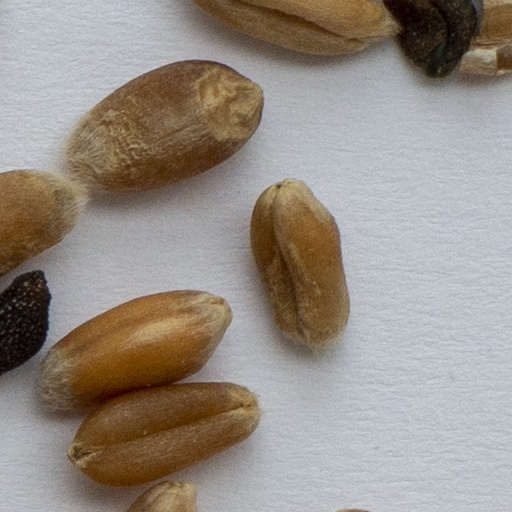Convolvulus-poly: (0, 266, 53, 378)
